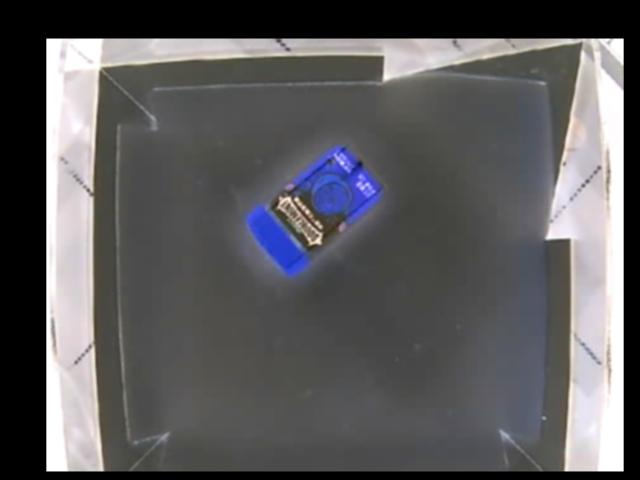Bottle: (247, 142, 385, 276)
